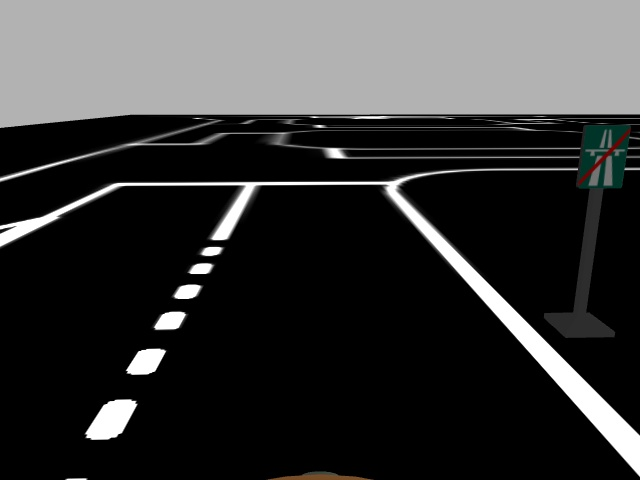leave_highway: (573, 123, 630, 191)
